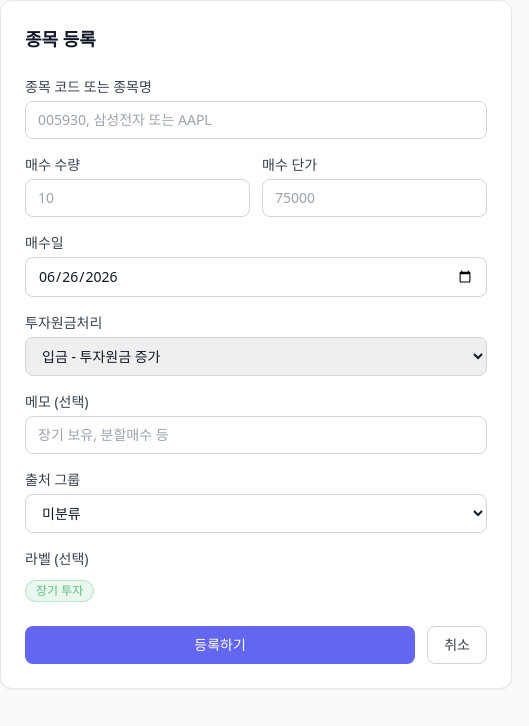
it: HoldingForm › detects KRX market for 6-digit ticker
Type "005930" into the field labelled "종목 코드 또는 종목명".
click(256, 120); type("005930")  # box [25,101,487,139]
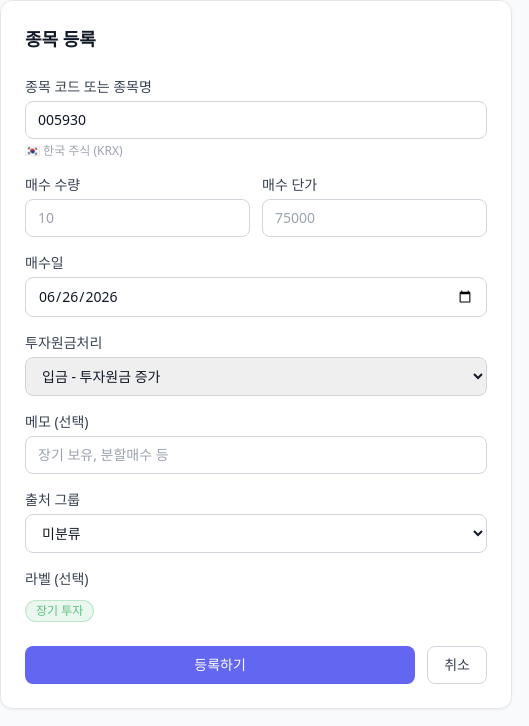
expect the text "🇰🇷 한국 주식 (KRX)" is shown: met, box [25,142,123,159]
